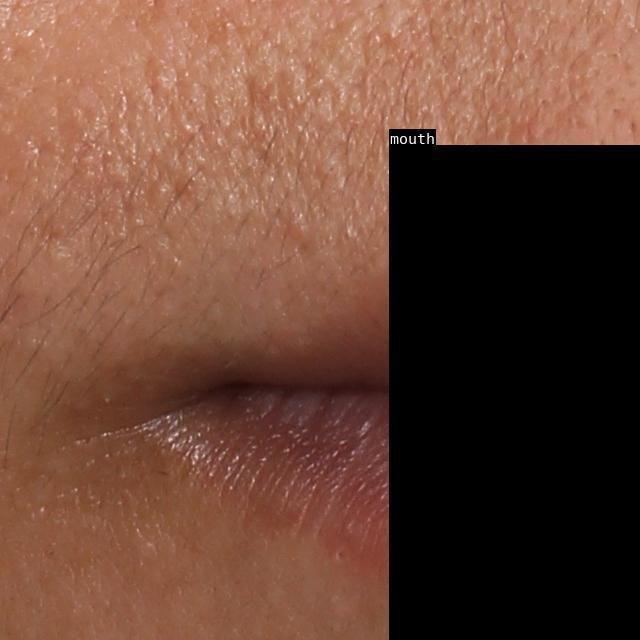comedo: (285, 208, 311, 239), (151, 176, 173, 201), (331, 548, 347, 565)
